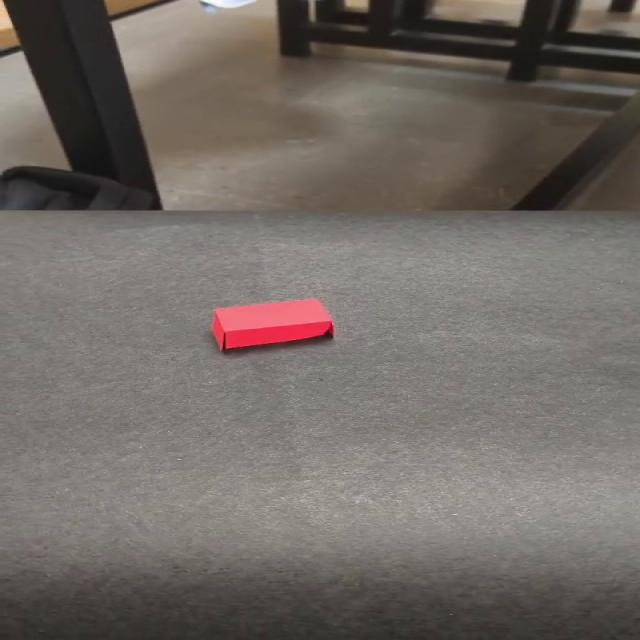red block: (210, 297, 334, 351)
